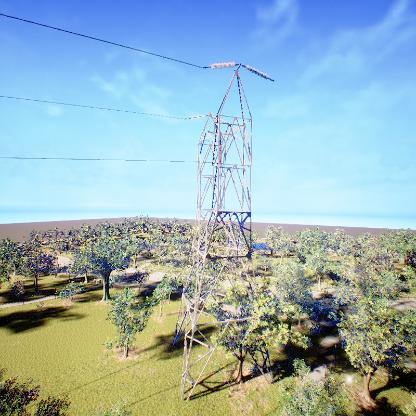tower: (168, 56, 282, 395)
